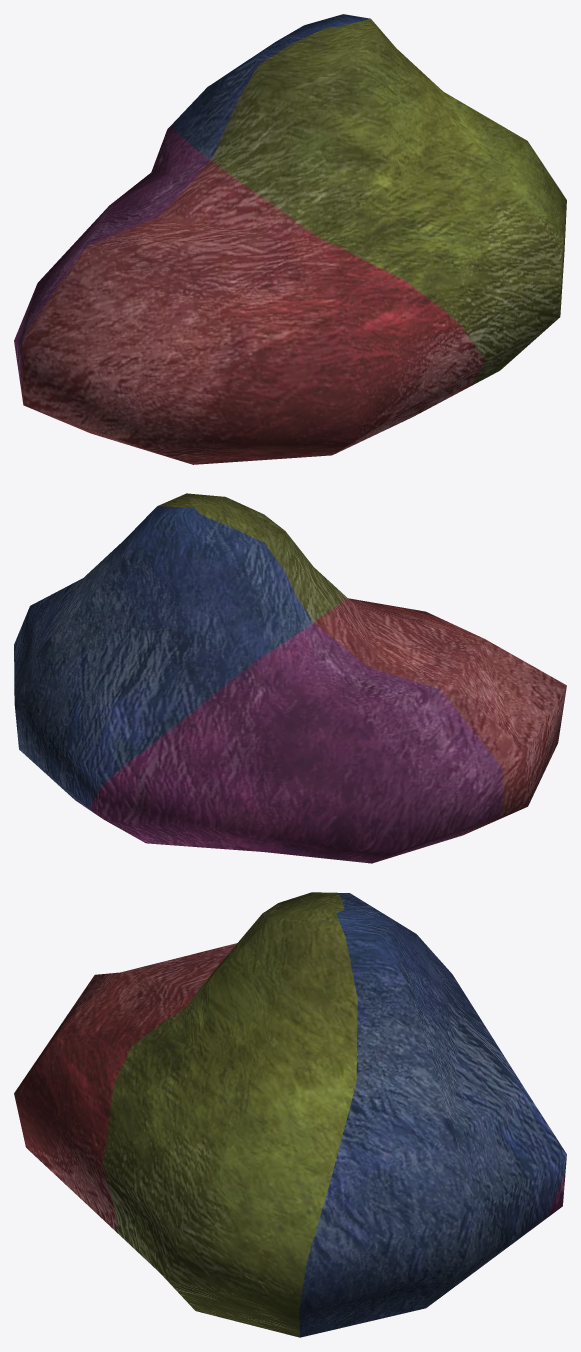
File: pm-bush-01-2.glb
3 renders of one model, top to bottom at view 1: azimuth 30°, elevation 25°; view 2: azimuth 150°, elevation 25°; view 3: azimuth 270°, elevation 25°, orthographic. The views are drawn at different scales.
Visible parts, largest first — view 1: Bush01; view 2: Bush01; view 3: Bush01.
Part boxes in pixels (x1,y1,x2,y2): Bush01: (14,14,566,464); Bush01: (14,493,566,863); Bush01: (14,892,566,1337).
Bounding box in the file's own units: 2.45 × 1.34 × 1.94.
Materials: 1 (1 with a texture image).
